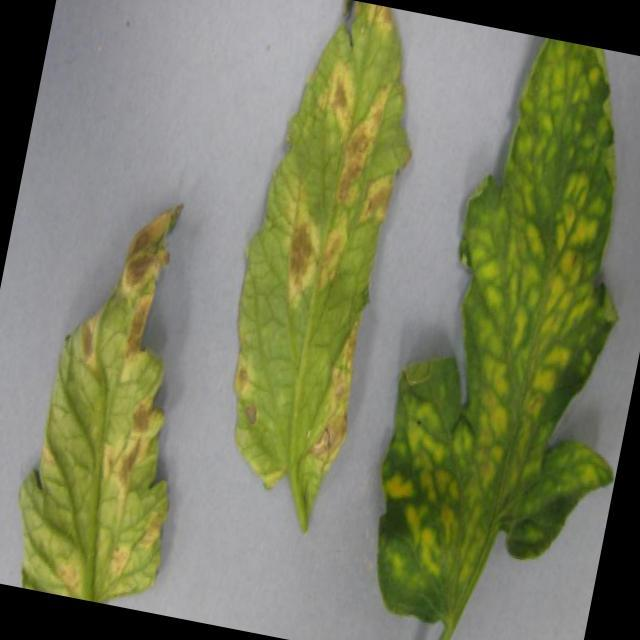Leaf Mold: (349, 25, 640, 640), (199, 1, 449, 521), (1, 167, 246, 612)
